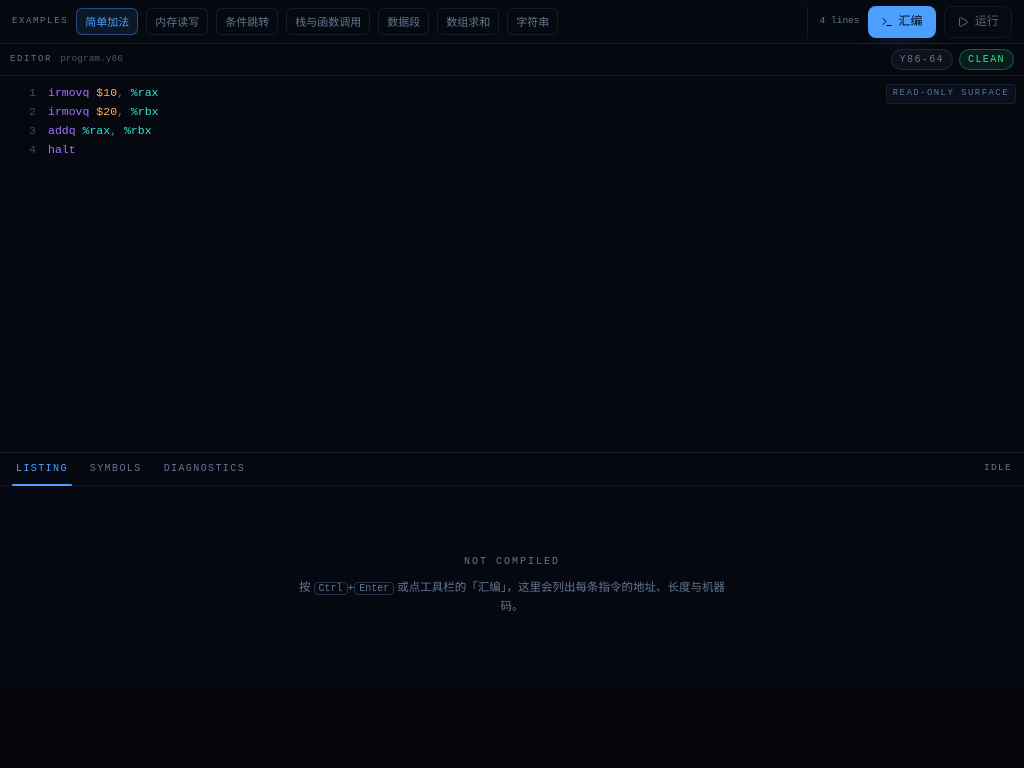
Instruction Editor：汇编闭环 › 点「汇编」后逐行列出地址与机器码
The width and height of the screenshot is (1024, 768).
Click the button "汇编". click: [902, 22]
box: x1=868 y1=6 x2=936 y2=38
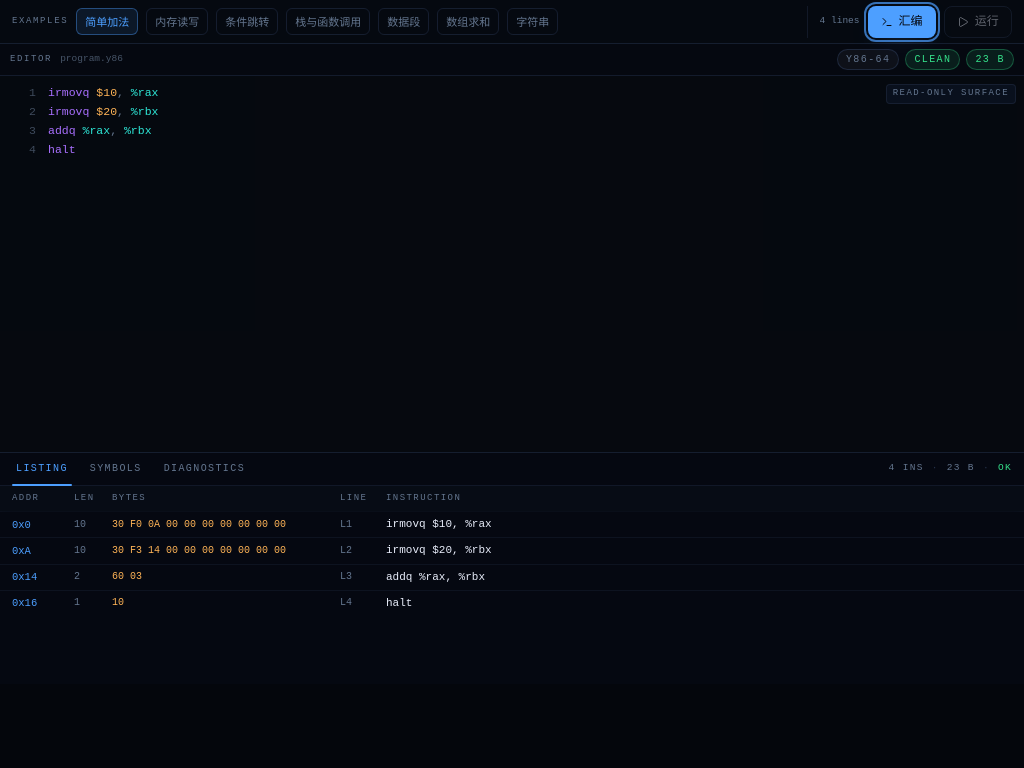
Now the text "0x0" is shown, box x1=0 y1=512 x2=74 y2=538
Now the text "0xA" is shown, box x1=0 y1=538 x2=74 y2=564
Now the text "irmovq $10, %rax" is shown, box x1=386 y1=512 x2=1023 y2=538
